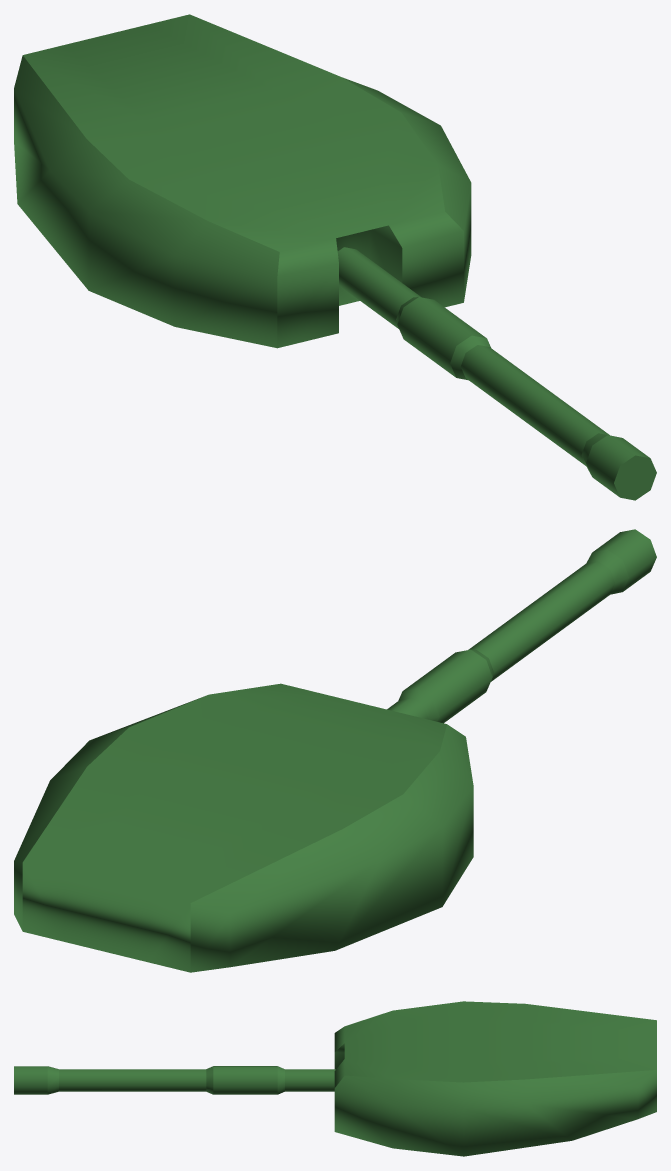
The model's file is Support unit tank_Head.fbx.
3 renders of one model, top to bottom at view 1: azimuth 30°, elevation 25°; view 2: azimuth 150°, elevation 25°; view 3: azimuth 270°, elevation 25°, orthographic. The views are drawn at different scales.
Parts seen in each view (by area): view 1: head, cannon; view 2: head, cannon; view 3: head, cannon.
Part boxes in pixels (x1,y1,x2,y2): head: [14, 14, 471, 348]; cannon: [337, 247, 656, 500]; head: [14, 683, 473, 972]; cannon: [387, 529, 656, 723]; head: [334, 1001, 656, 1156]; cannon: [14, 1066, 335, 1094].
Bounding box in the file's own units: 340 × 94.99 × 884.
